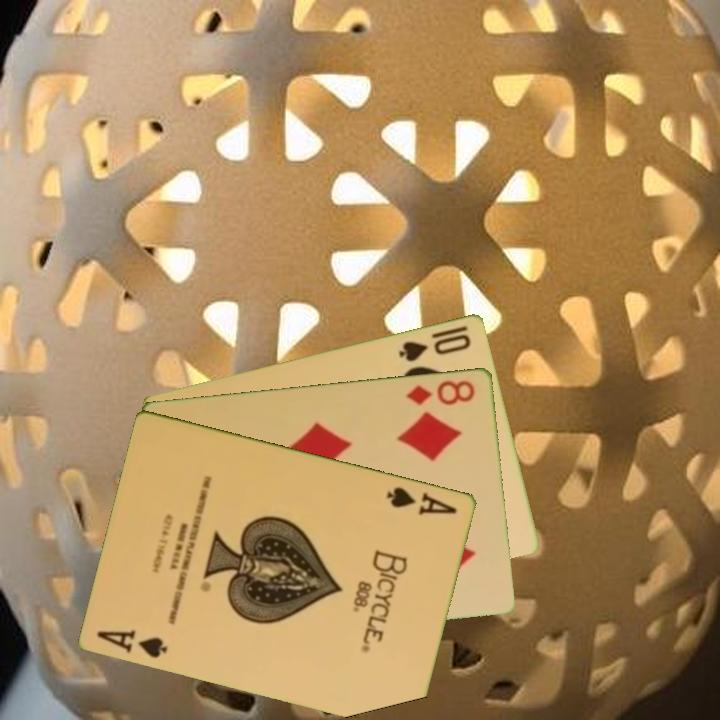10s: (395, 321, 474, 364)
8d: (403, 376, 478, 408)
As: (94, 626, 171, 661), (383, 483, 461, 517)
